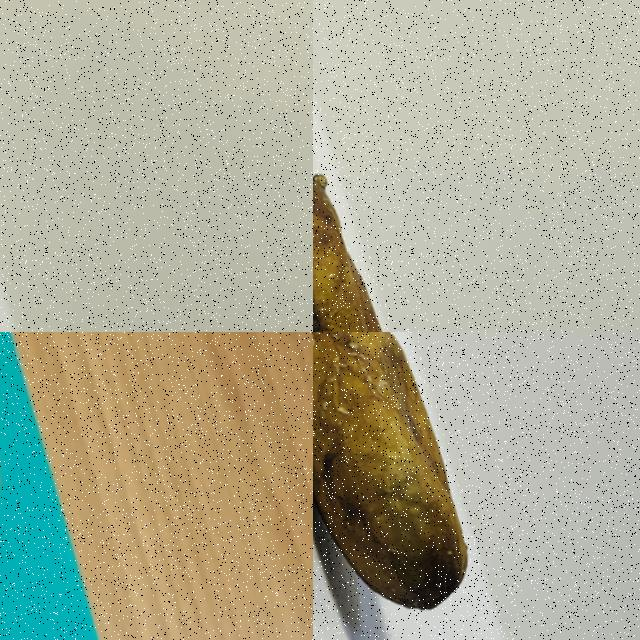Fine_cocoabeans: (313, 332, 554, 639), (313, 112, 490, 331)
